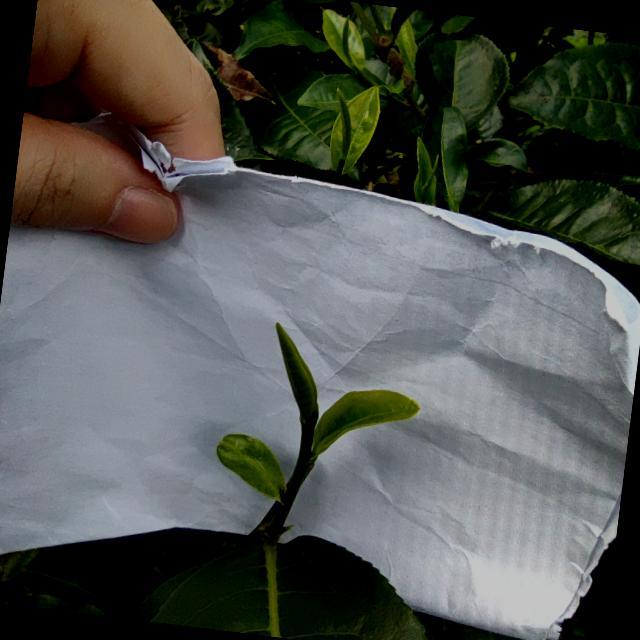Stem: (293, 472, 304, 483)
